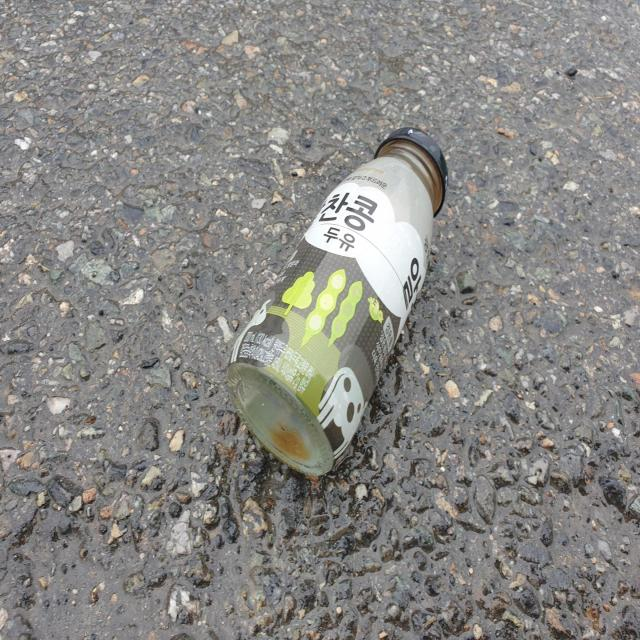glass: (227, 126, 448, 477)
